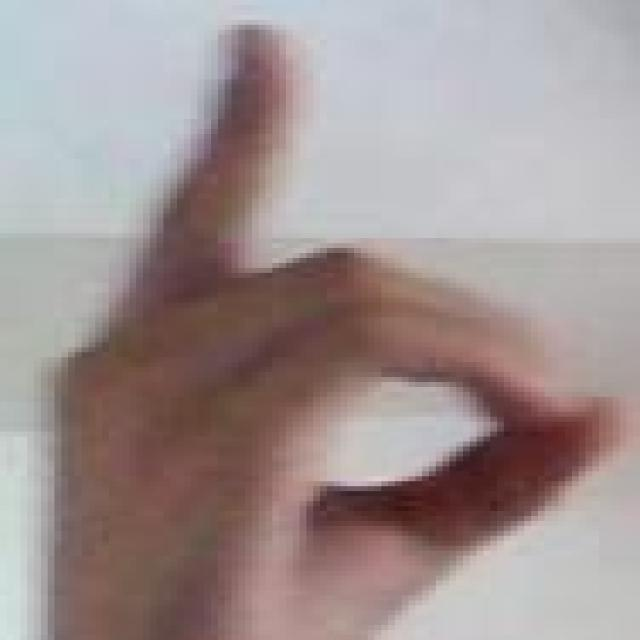D1: (5, 2, 636, 640)
